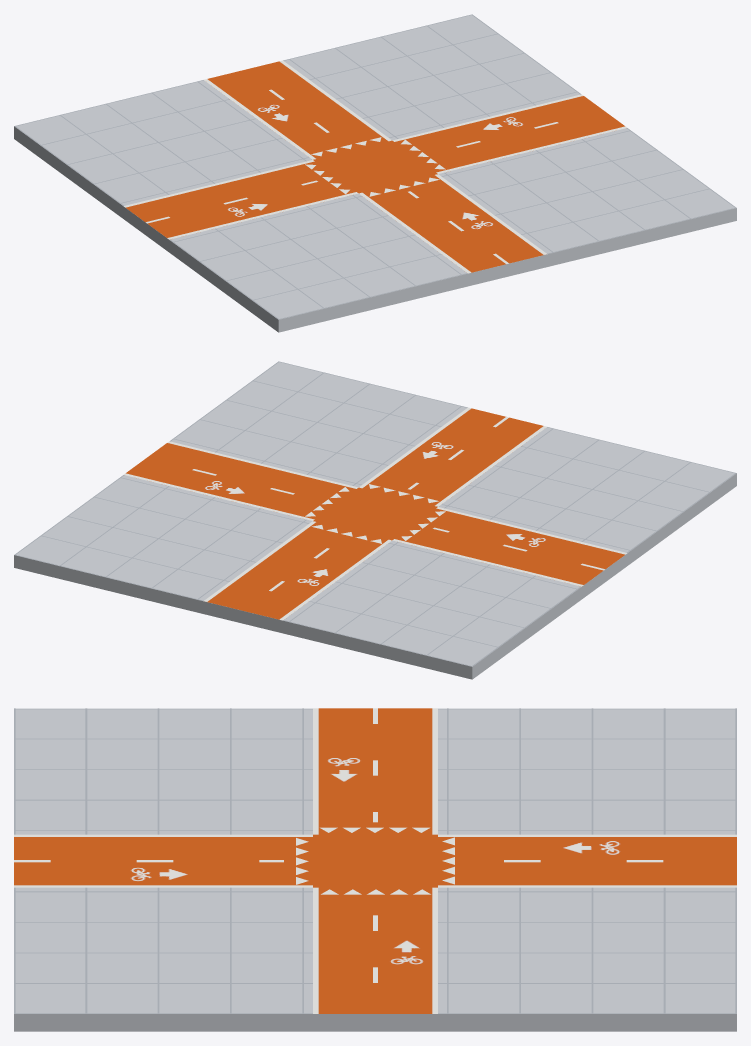
The model's file is ciclovia_cruzamento.glb.
3 views of the same model, one above another, from view 1: azimuth 30°, elevation 25°; view 2: azimuth 150°, elevation 25°; view 3: azimuth 270°, elevation 25° (orthographic). The views are drawn at different scales.
Parts seen in each view (by area): view 1: ciclovia_cruzamento; view 2: ciclovia_cruzamento; view 3: ciclovia_cruzamento.
Part boxes in pixels (left/top/right/bottom): ciclovia_cruzamento: left=14, top=14, right=736, bottom=332; ciclovia_cruzamento: left=14, top=361, right=736, bottom=679; ciclovia_cruzamento: left=14, top=708, right=736, bottom=1031.
Bounding box in the file's own units: 15 × 0.4045 × 15.
2 materials, 2 textured.
